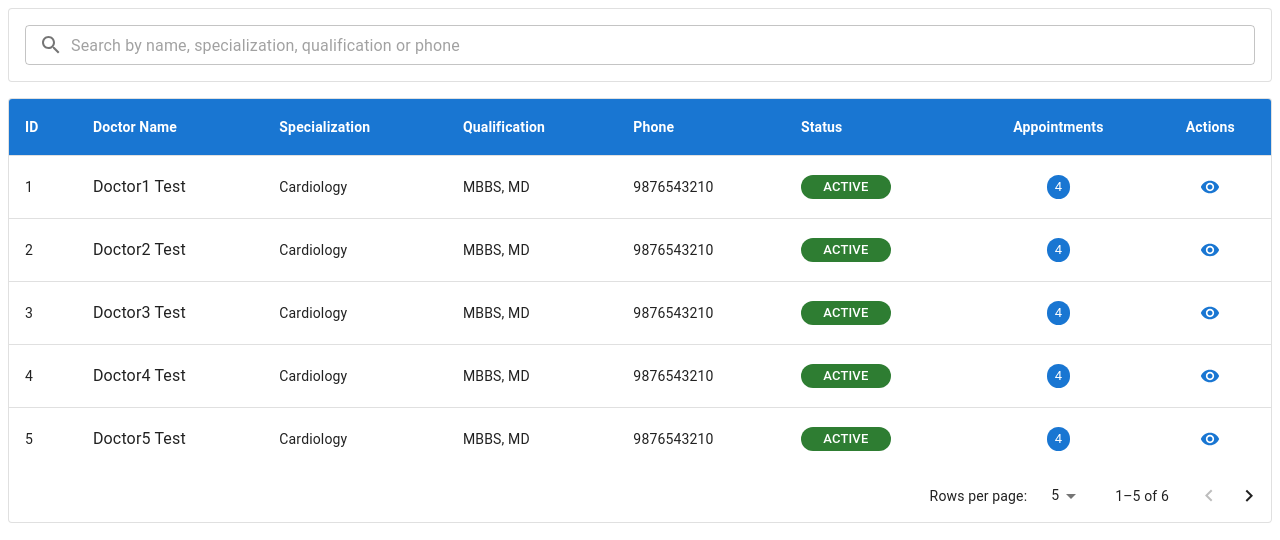
Test case: DoctorTable › should paginate doctors
Expected: the text "Doctor1 Test" is shown, [93, 177, 186, 196]
Expected: the text "Doctor6 Test" is not shown
Click the button named "Go to next page" at (1249,496), box [1229, 476, 1269, 516]
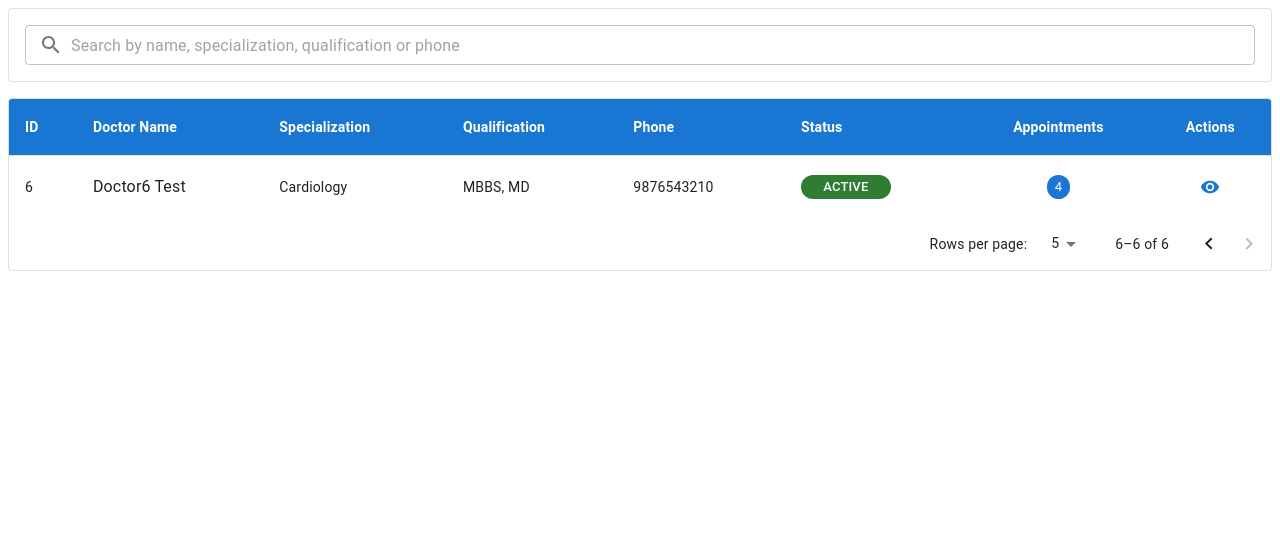
Now the text "Doctor6 Test" is shown, box [93, 177, 186, 196]
Now the text "6–6 of 6" is shown, box [1115, 234, 1169, 254]
